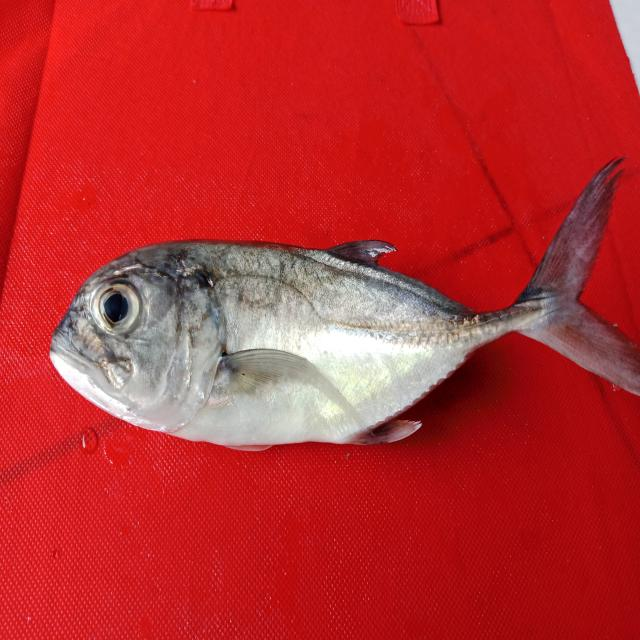ikan: (48, 154, 639, 450)
